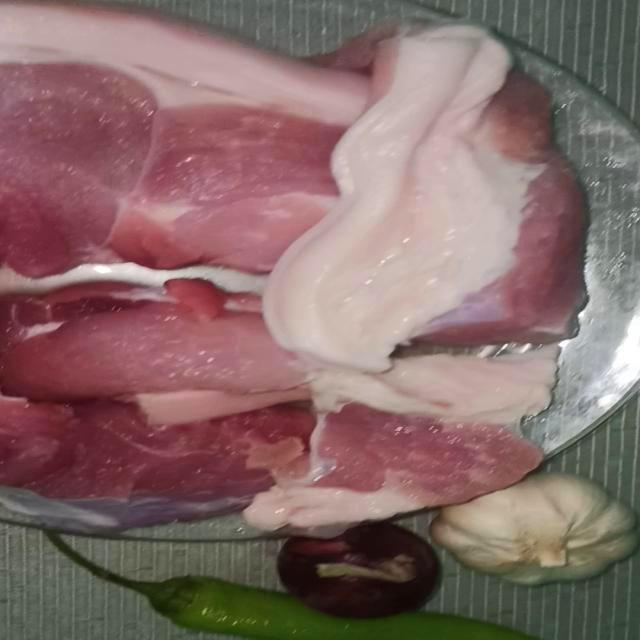chili_pepper: (49, 575, 529, 640)
garlic: (468, 468, 640, 582)
onion: (276, 510, 456, 628)
pork: (0, 0, 361, 270), (293, 42, 578, 357), (0, 382, 314, 542), (12, 265, 329, 418), (294, 348, 534, 515)
